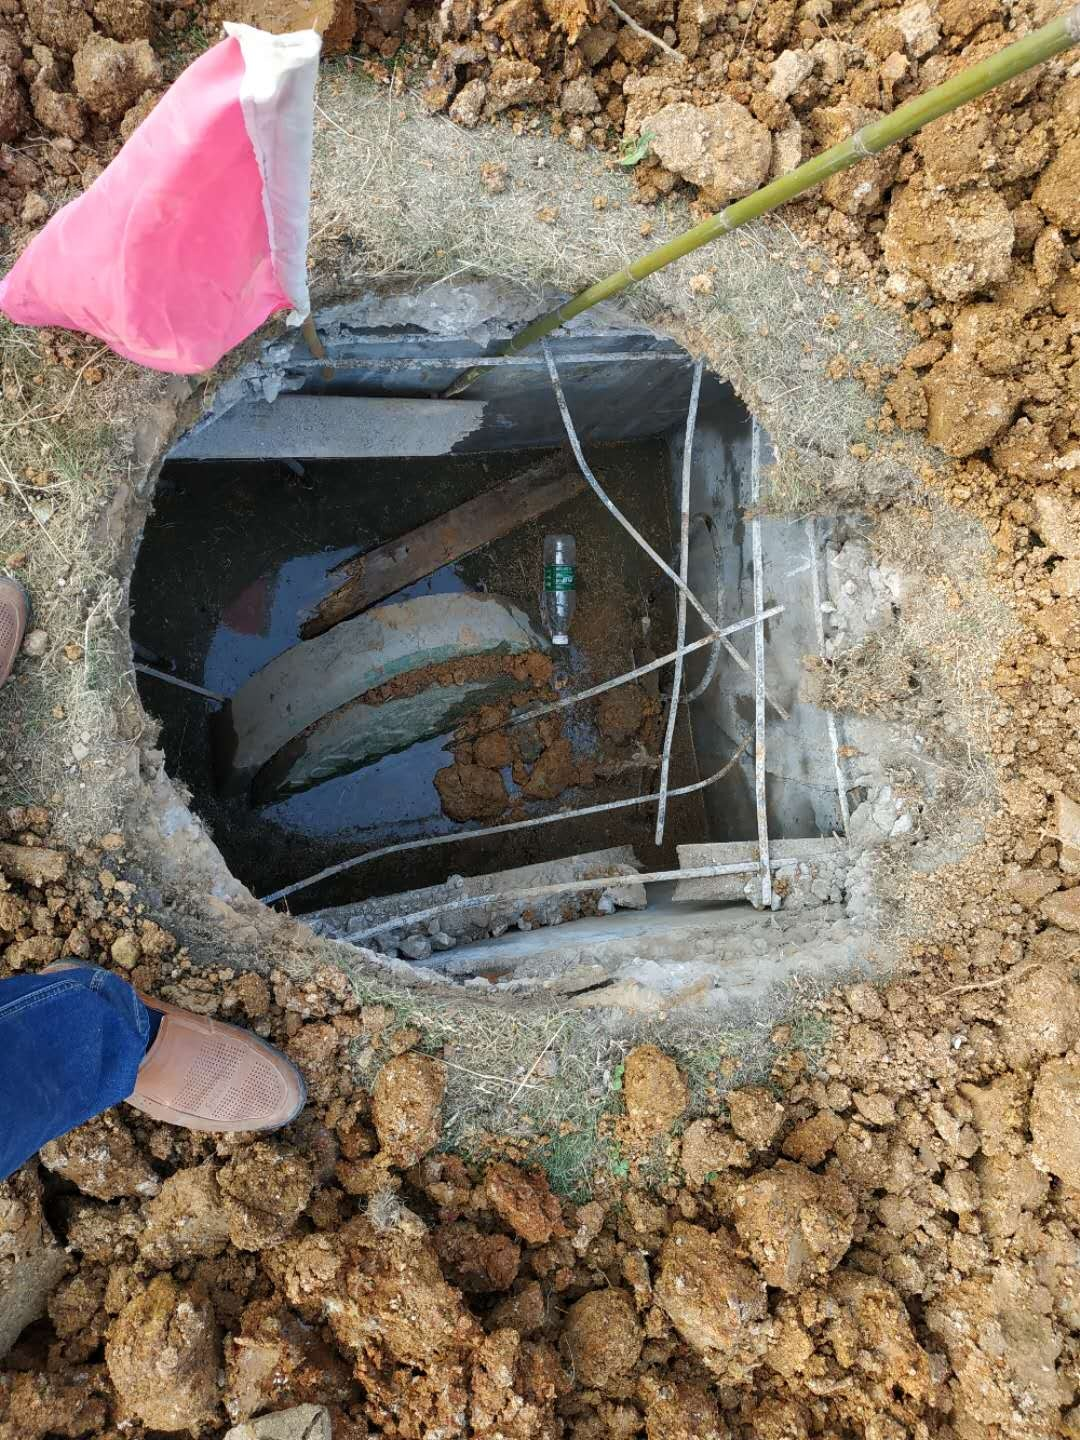lose: (87, 255, 1007, 1003)
